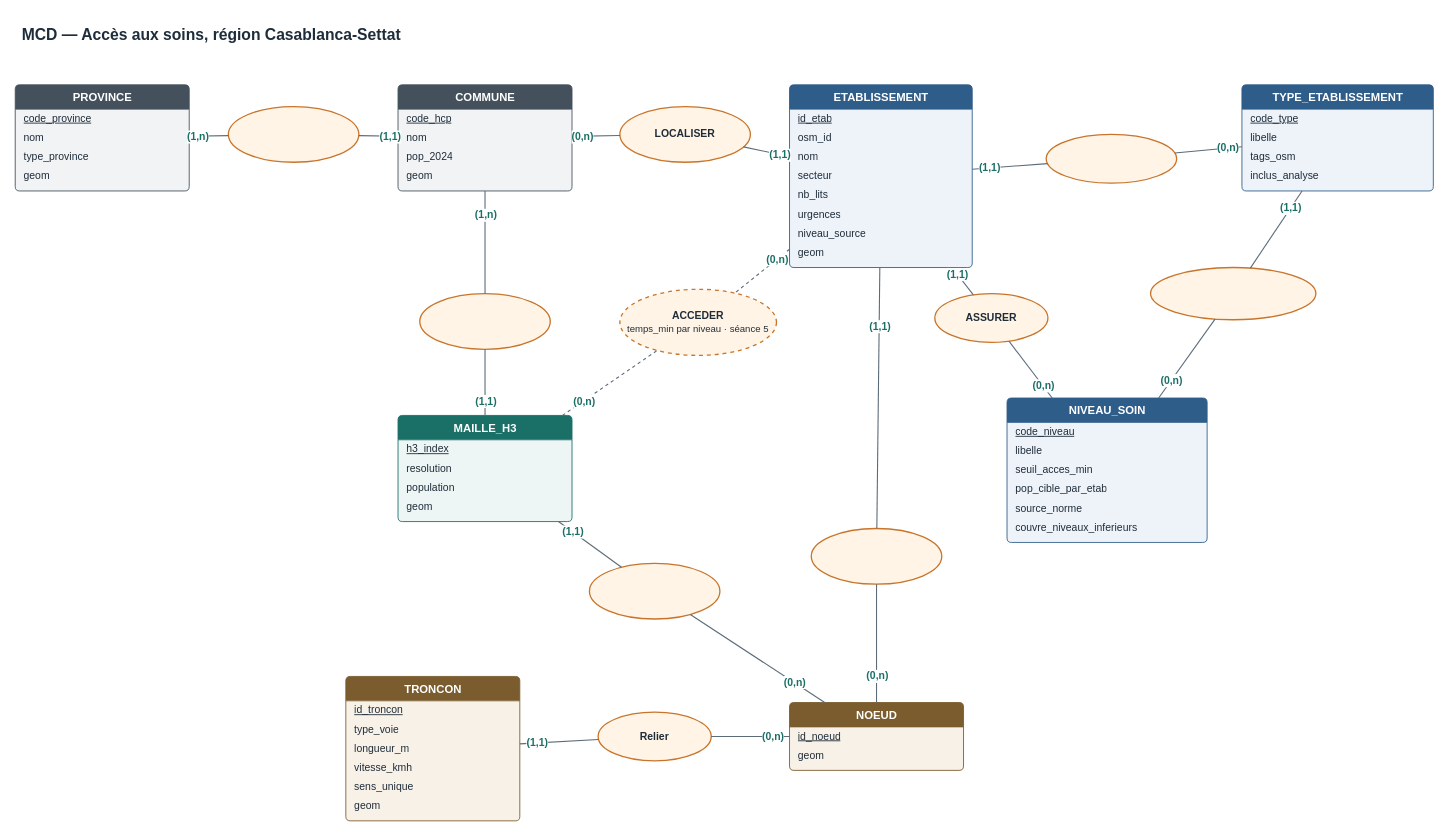
Image size: 1449x836. Some labels were removed from this diagram. The centre of each missing label's shape, as x and y in pixels:
"ACCROCHER" belongs at point (876, 555).
"Affecter" belongs at point (1233, 293).
"APPARTENIR" belongs at point (293, 134).
"CLASSER" belongs at point (1111, 158).
"RACCORDER" belongs at point (654, 590).
"RATTACHER" belongs at point (485, 321).
